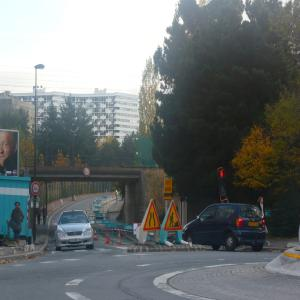Vehicle-registration-plate: (69, 237, 82, 244), (249, 221, 259, 229)
